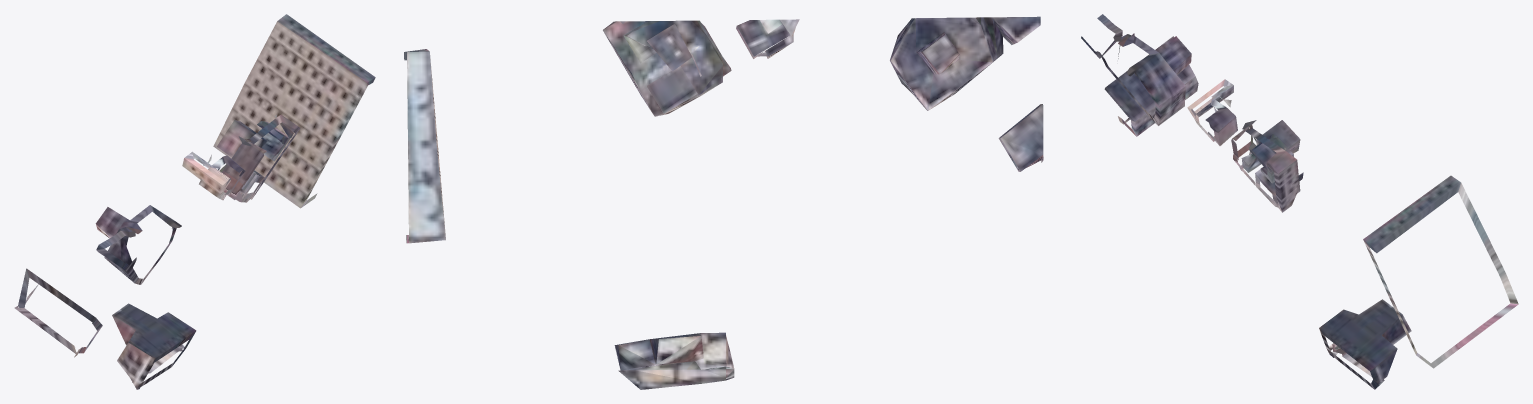
3 views of the same model, side by side, from view 1: azimuth 30°, elevation 25°; view 2: azimuth 150°, elevation 25°; view 3: azimuth 270°, elevation 25° (orthographic). The views are drawn at different scales.
Size of the model in its own units: 133 by 79.34 by 111.
1 material, 1 textured.
